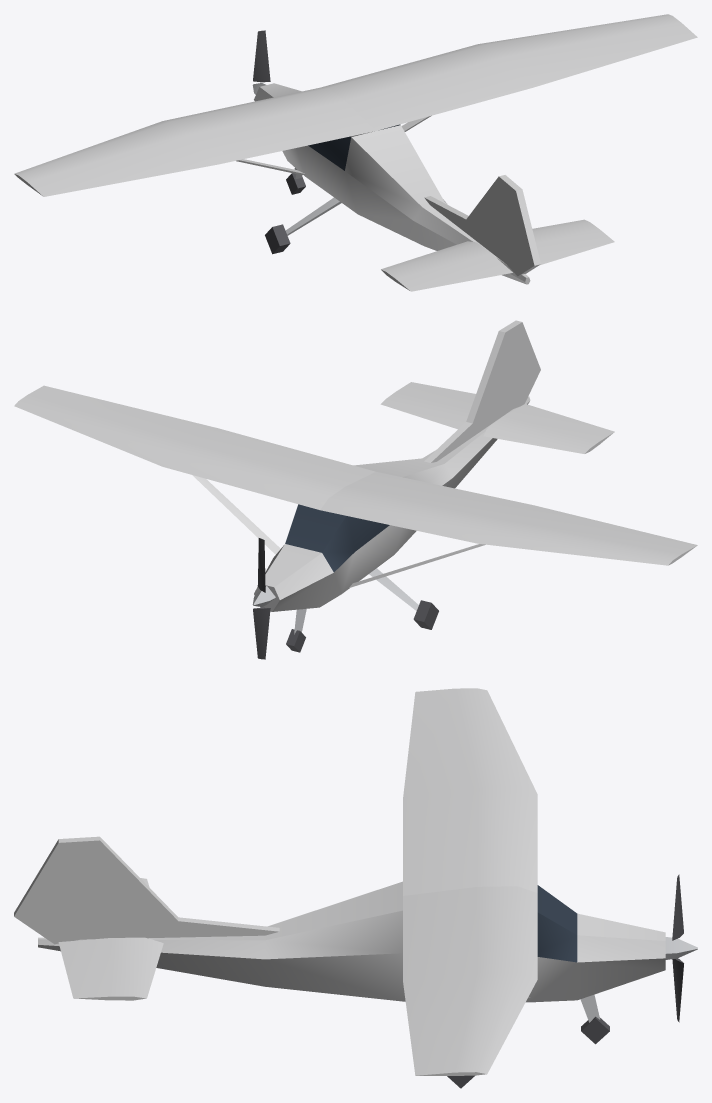
File: Cessna_172_LOD2.glb
The picture shows the model from 3 angles, top to bottom: view 1: azimuth 30°, elevation 25°; view 2: azimuth 150°, elevation 25°; view 3: azimuth 270°, elevation 25°; orthographic projection. The views are drawn at different scales.
Parts seen in each view (by area): view 1: Wing_Right, Wing_Left, Fuselage, VerticalTail, HorizontalTail_Left, HorizontalTail_Right, Propeller, Wheel_Left, LandingGear_Left; view 2: Wing_Right, Wing_Left, Fuselage, VerticalTail, HorizontalTail_Left, HorizontalTail_Right, Propeller, Strut_Right, Strut_Left; view 3: Fuselage, Wing_Left, Wing_Right, VerticalTail, HorizontalTail_Right, Propeller.
Part boxes in pixels (box(x1,y1,x2,y2)): Wing_Right: box(321, 14, 697, 130); Wing_Left: box(14, 87, 375, 196); Fuselage: box(254, 83, 530, 284); VerticalTail: box(424, 175, 540, 276); HorizontalTail_Left: box(381, 241, 512, 291); HorizontalTail_Right: box(532, 219, 614, 265); Propeller: box(253, 30, 270, 82); Wheel_Left: box(265, 224, 290, 254); LandingGear_Left: box(285, 197, 341, 235); Wing_Right: box(14, 385, 375, 509); Wing_Left: box(320, 472, 697, 565); Fuselage: box(254, 396, 530, 611); VerticalTail: box(424, 320, 540, 462); HorizontalTail_Left: box(483, 404, 614, 453); HorizontalTail_Right: box(380, 382, 475, 429); Propeller: box(253, 538, 270, 659); Strut_Right: box(192, 475, 280, 554); Strut_Left: box(349, 544, 485, 587); Fuselage: box(38, 881, 665, 1002); Wing_Left: box(403, 688, 537, 895); Wing_Right: box(403, 886, 537, 1075); VerticalTail: box(14, 836, 279, 944); HorizontalTail_Right: box(58, 937, 163, 1000); Propeller: box(672, 874, 683, 1022).
Bounding box in the file's own units: 11 × 2.72 × 8.28.
